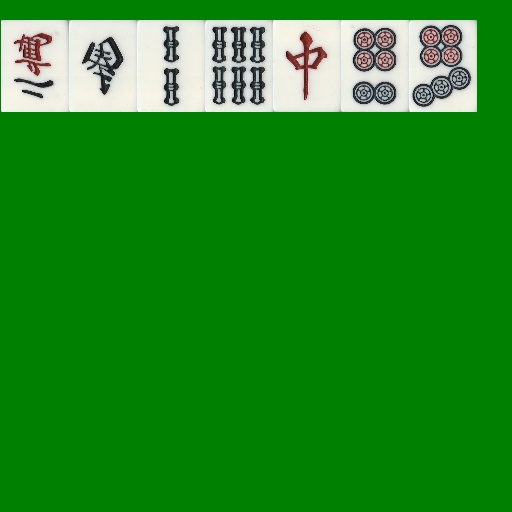2m: (1, 20, 69, 112)
2s: (137, 20, 205, 112)
6p: (341, 20, 409, 112)
6s: (205, 20, 273, 112)
7p: (409, 20, 477, 112)
south: (69, 20, 137, 112)
tyun: (273, 20, 341, 112)
